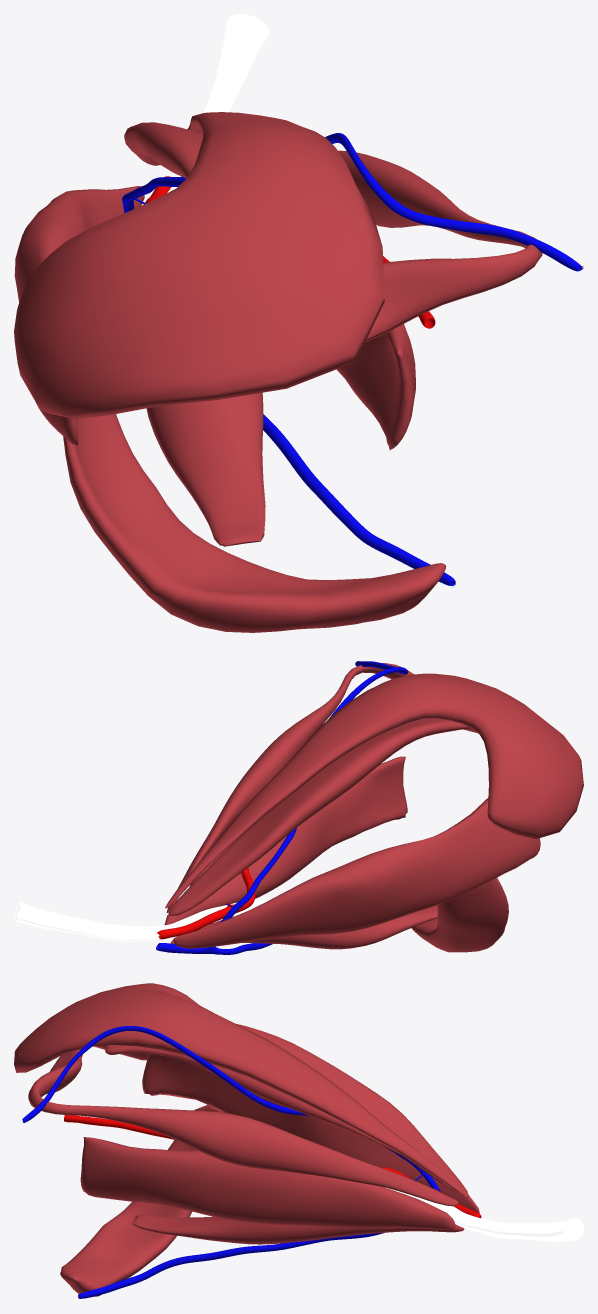
Rendered from VH_M_Eye_R_Landmarks.glb.
The picture shows the model from 3 angles, top to bottom: view 1: azimuth 30°, elevation 25°; view 2: azimuth 150°, elevation 25°; view 3: azimuth 270°, elevation 25°; orthographic projection. The views are drawn at different scales.
Visible parts, largest first — view 1: VH_M_eye_R_landmark_muscles, VH_M_eye_R_landmark_veins, VH_M_eye_R_landmark_dura_mater_optic_nerve; view 2: VH_M_eye_R_landmark_muscles, VH_M_eye_R_landmark_dura_mater_optic_nerve, VH_M_eye_R_landmark_veins, VH_M_eye_R_landmark_arteries; view 3: VH_M_eye_R_landmark_muscles, VH_M_eye_R_landmark_veins, VH_M_eye_R_landmark_dura_mater_optic_nerve, VH_M_eye_R_landmark_arteries.
Boxes of the visible parts, left/top/right/bottom form: VH_M_eye_R_landmark_muscles: left=14, top=112, right=542, bottom=632; VH_M_eye_R_landmark_veins: left=122, top=133, right=583, bottom=586; VH_M_eye_R_landmark_dura_mater_optic_nerve: left=167, top=14, right=269, bottom=192; VH_M_eye_R_landmark_muscles: left=164, top=663, right=583, bottom=952; VH_M_eye_R_landmark_dura_mater_optic_nerve: left=14, top=900, right=269, bottom=941; VH_M_eye_R_landmark_veins: left=156, top=661, right=407, bottom=954; VH_M_eye_R_landmark_arteries: left=157, top=827, right=255, bottom=939; VH_M_eye_R_landmark_muscles: left=14, top=983, right=479, bottom=1296; VH_M_eye_R_landmark_veins: left=22, top=1026, right=440, bottom=1298; VH_M_eye_R_landmark_dura_mater_optic_nerve: left=385, top=1187, right=583, bottom=1241; VH_M_eye_R_landmark_arteries: left=64, top=1115, right=481, bottom=1218.
Size of the model in its own units: 0.0477 by 0.0358 by 0.0667.
